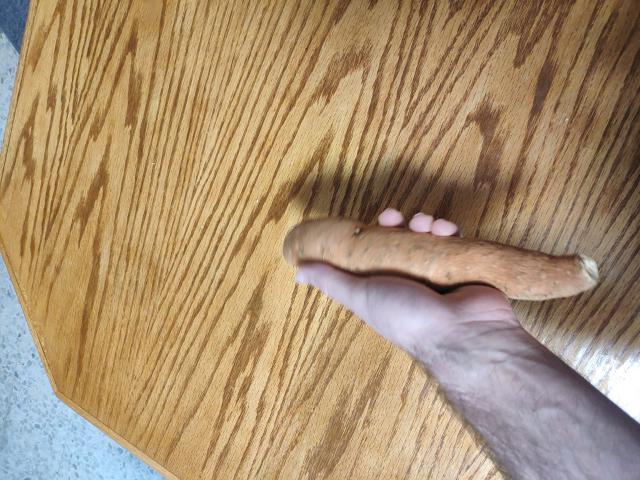sweet_potato: (288, 204, 595, 308)
